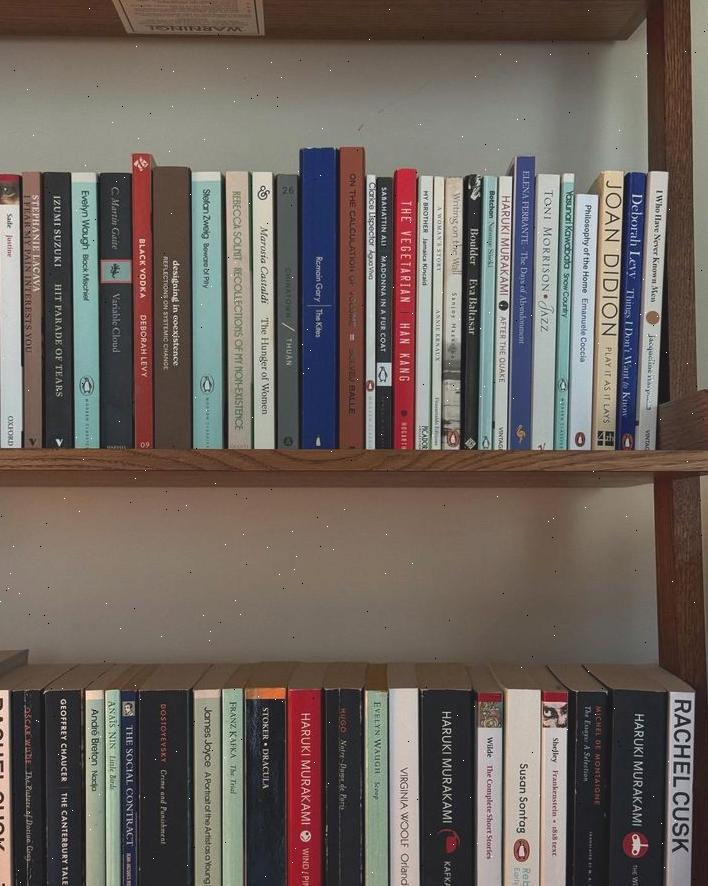book: (489, 661, 547, 886), (137, 664, 194, 886), (299, 148, 336, 447), (152, 167, 191, 447), (244, 669, 288, 886), (590, 173, 624, 448), (98, 171, 132, 445), (634, 171, 667, 449), (614, 175, 646, 448), (190, 663, 229, 886), (337, 148, 366, 447), (191, 172, 222, 447), (285, 672, 321, 886), (71, 175, 99, 445), (385, 664, 419, 886), (566, 187, 595, 447), (224, 172, 251, 445), (530, 174, 557, 446), (130, 153, 155, 445), (509, 165, 535, 445), (250, 173, 276, 444), (392, 169, 416, 449), (361, 665, 390, 886), (0, 174, 22, 444), (474, 679, 502, 886), (442, 178, 463, 446), (220, 672, 246, 886), (494, 177, 514, 444), (414, 176, 433, 446), (428, 177, 446, 444)
